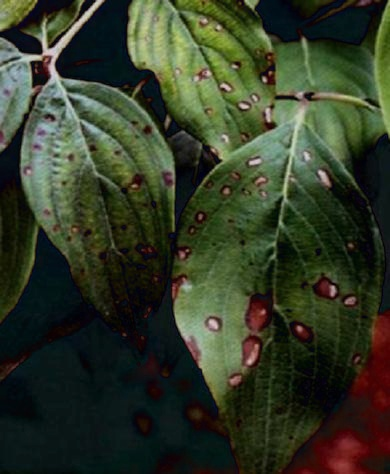Anthracnose: (12, 100, 170, 303), (215, 139, 313, 404), (186, 19, 280, 127)
